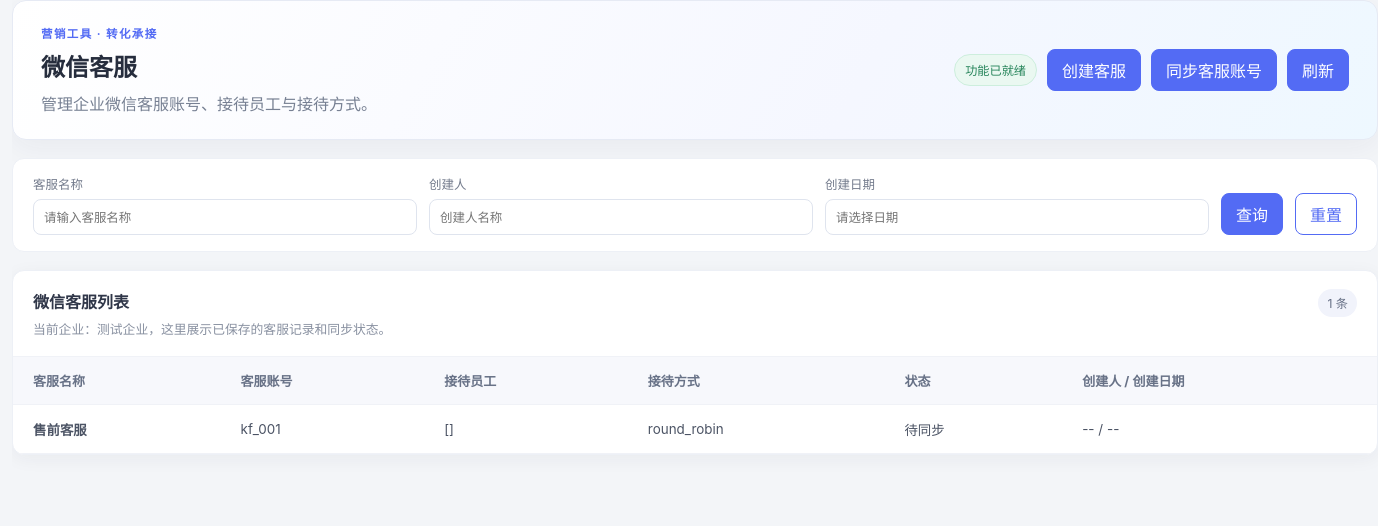
Scenario: Phase 3.4 conversion pages › refreshes the persisted customer-service failure state after sync errors
Expected: the text "售前客服" is shown, [33,422,87,438]
Step 1. Click the button "同步客服账号" → (1214, 70), box [1151,49,1277,91]
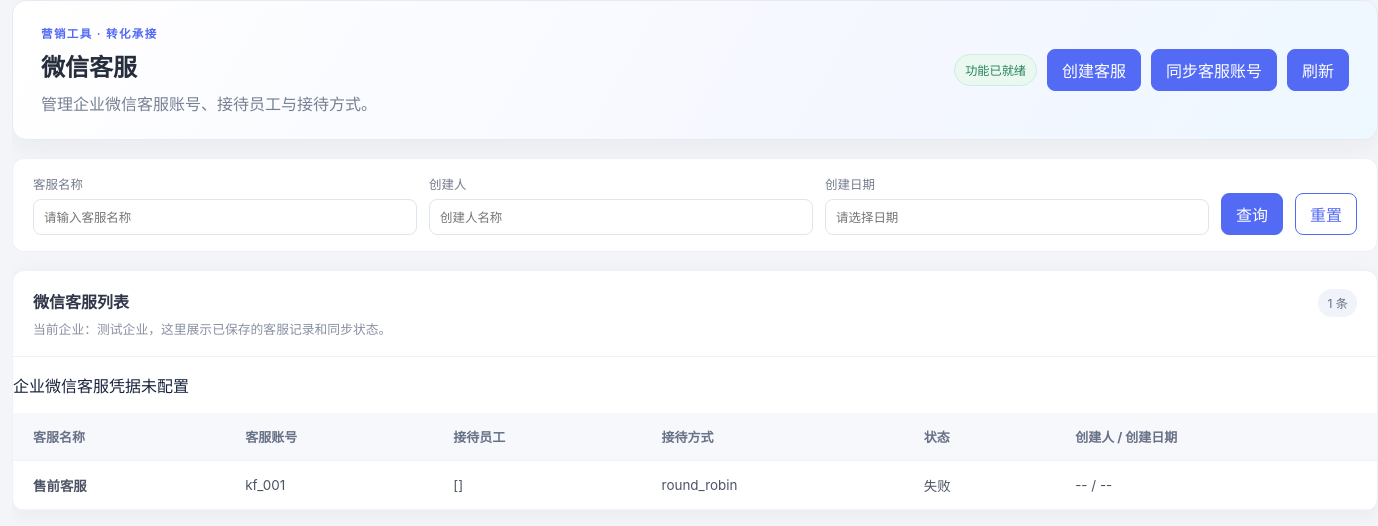
Now the message reads "企业微信客服凭据未配置", box [13,376,189,396]
Now the text "失败" is shown, box [904,460,1055,510]
